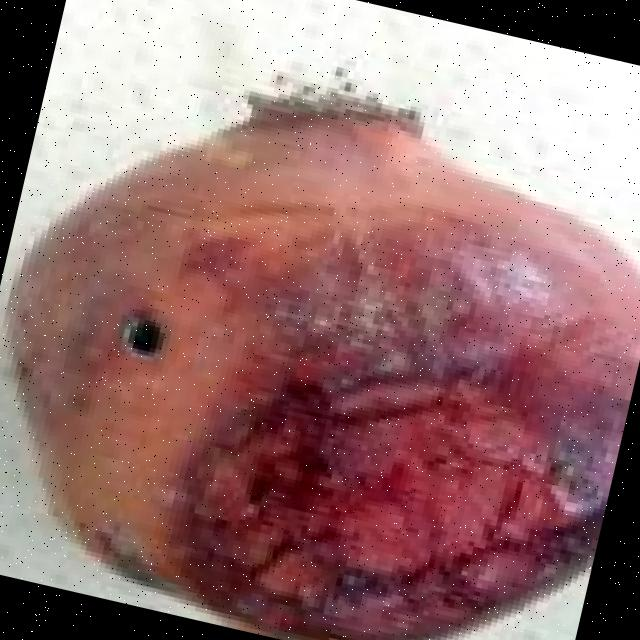Bad_Pomegranate-0-1-day: (4, 98, 640, 640)
